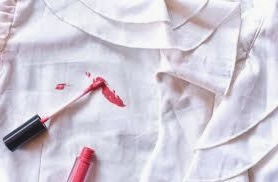lipstick: (95, 76, 116, 97), (97, 93, 127, 107), (53, 81, 70, 92), (84, 71, 93, 78)
